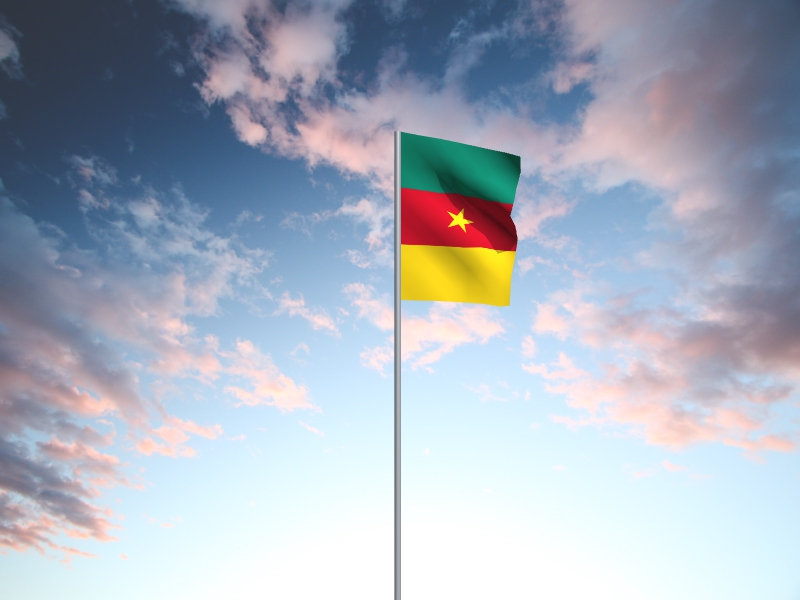cm: (402, 133, 523, 308)
